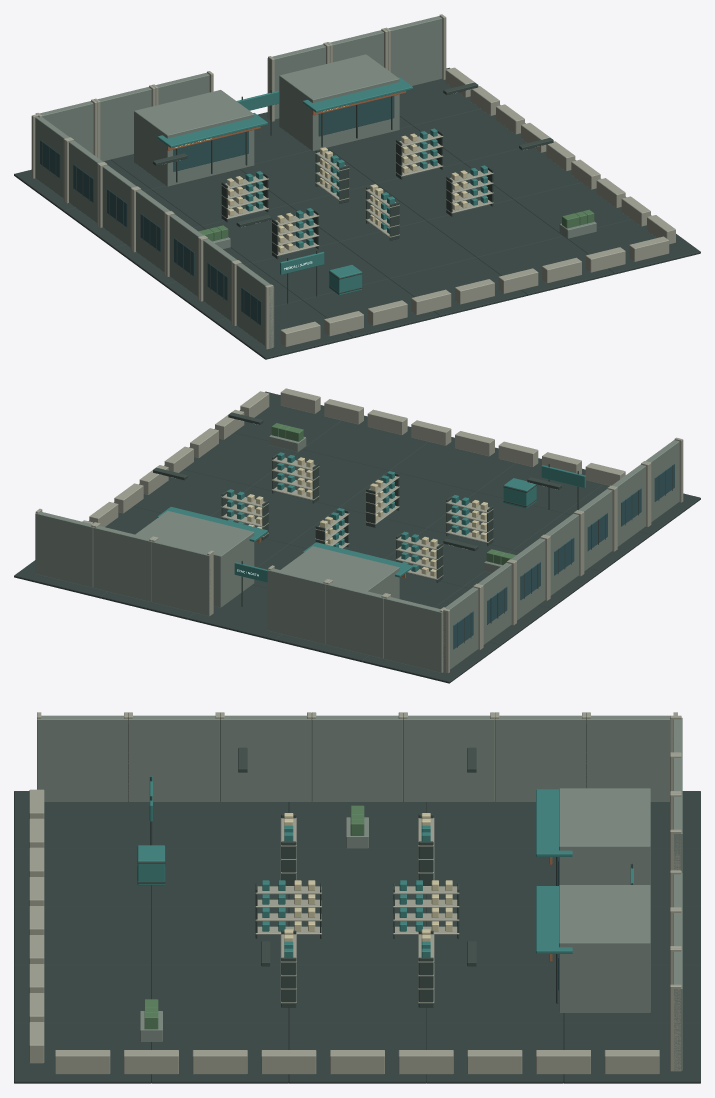
Rendered from chapter_shop.glb.
3 views of the same model, one above another, from view 1: azimuth 30°, elevation 25°; view 2: azimuth 150°, elevation 25°; view 3: azimuth 270°, elevation 25° (orthographic). The views are drawn at different scales.
Visible parts, largest first — view 1: chapter_shop; view 2: chapter_shop; view 3: chapter_shop.
Part boxes in pixels (x1,y1,x2,y2): chapter_shop: [14, 14, 700, 359]; chapter_shop: [14, 388, 700, 683]; chapter_shop: [14, 712, 700, 1083].
Size of the model in its own units: 30 by 4.24 by 30.
